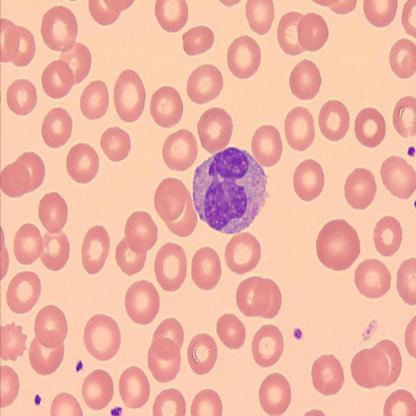Monocyte: (190, 144, 272, 236)
